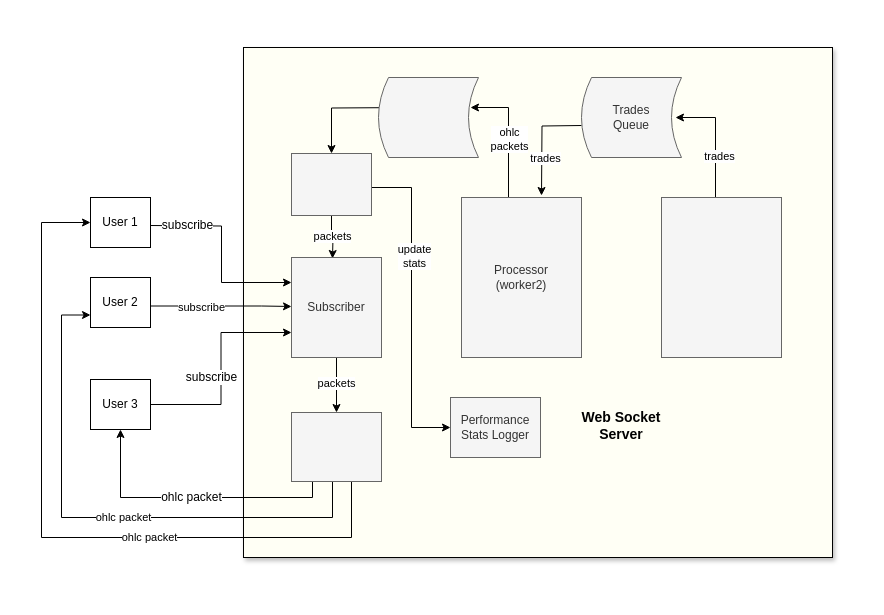
Some shapes in this 884 by 615 pixel diagram are drawn without their labels. The shapes that lost their labels are listed below. From the top down, each one's centre as x and y in pixels, then its label:
(428,117): OHLC Packet Queue
(331,184): Worker3
(721,277): Producer (worker1)
(336,447): Packet Transmission Thread Pool
